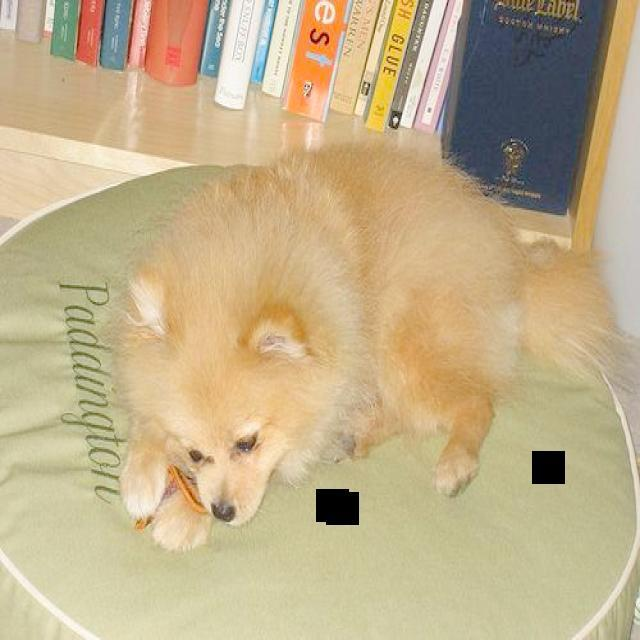adult_dog: (107, 136, 631, 557)
